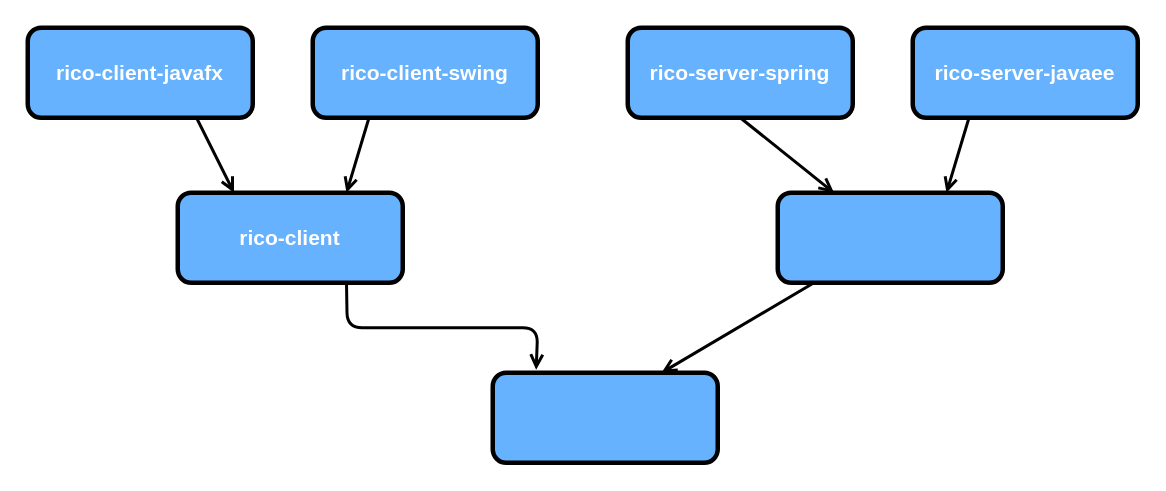
Some shapes in this 1166 by 491 pixel diagram are drawn without their labels. The shapes that lost their labels are listed below. From the top down, each one's centre as x and y in pixels, then its label:
At point 889,237: "rico-server".
At point 604,417: "rico-core".
